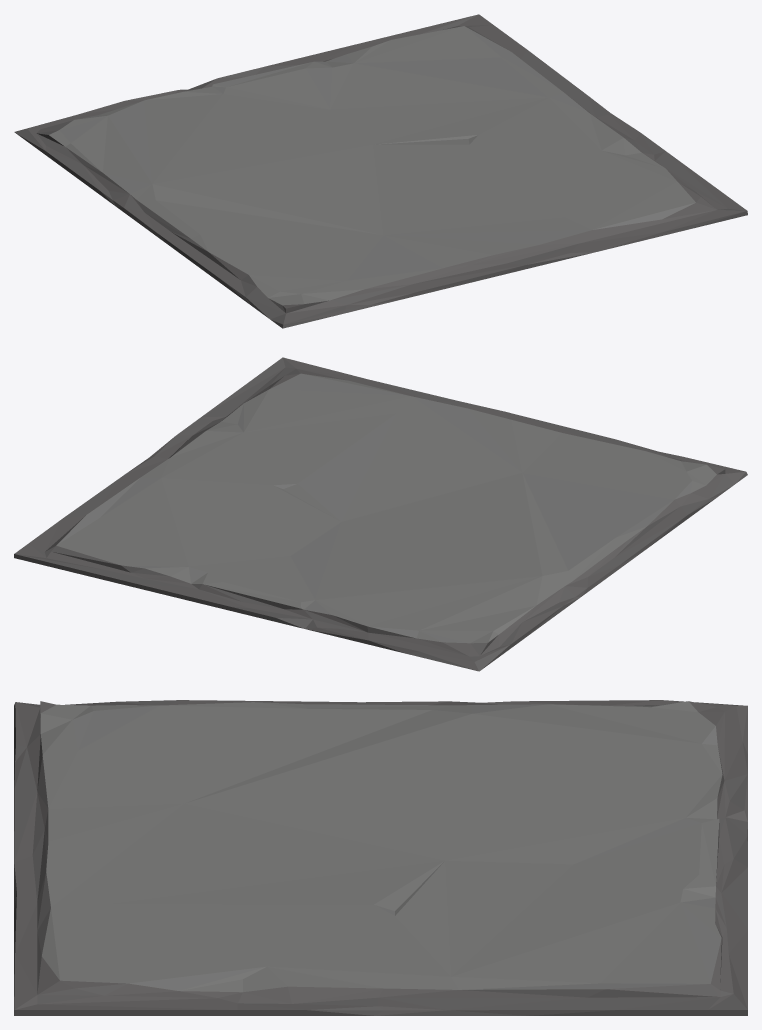
The model's file is SM_Env_Tiles_07.FBX.
The picture shows the model from 3 angles, top to bottom: view 1: azimuth 30°, elevation 25°; view 2: azimuth 150°, elevation 25°; view 3: azimuth 270°, elevation 25°; orthographic projection. The views are drawn at different scales.
Parts seen in each view (by area): view 1: SM_Env_Tiles_07; view 2: SM_Env_Tiles_07; view 3: SM_Env_Tiles_07.
Part boxes in pixels (x1,y1,x2,y2): SM_Env_Tiles_07: (14,14,747,328); SM_Env_Tiles_07: (14,357,747,671); SM_Env_Tiles_07: (14,700,747,1015).
Size of what is drawn, in the model's own units: 500 by 500 by 12.93.
